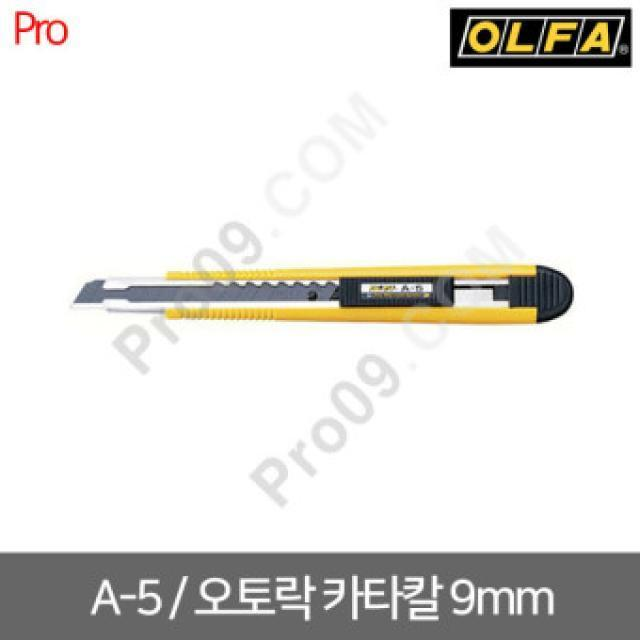cutter: (65, 246, 586, 342)
